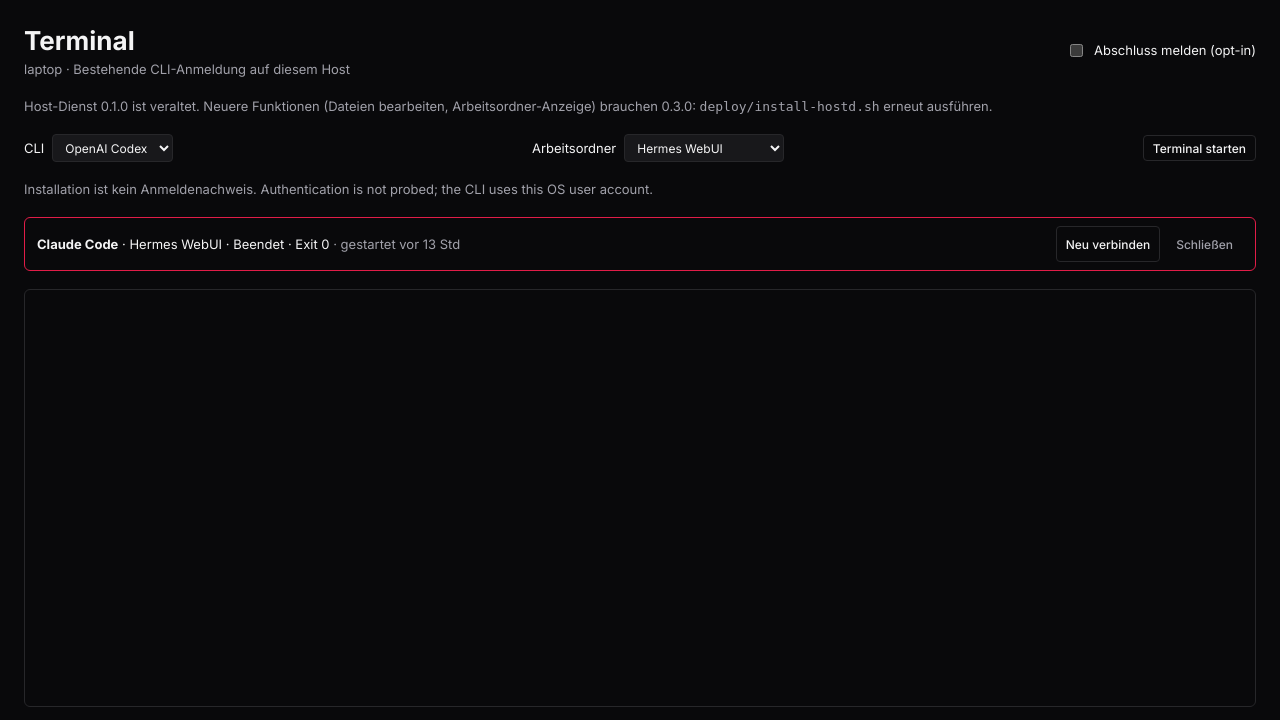
Test: terminal › shows an exited terminal (real shape) as Beendet with Exit code and closes it via DELETE
expect the text "Beendet · Exit 0" is shown: met, box [233,236,330,252]
expect the text "· gestartet vor 13 Std" is shown: met, box [330,236,460,252]
Click the button "Schließen" at [1205, 244], box [1166,226,1243,262]
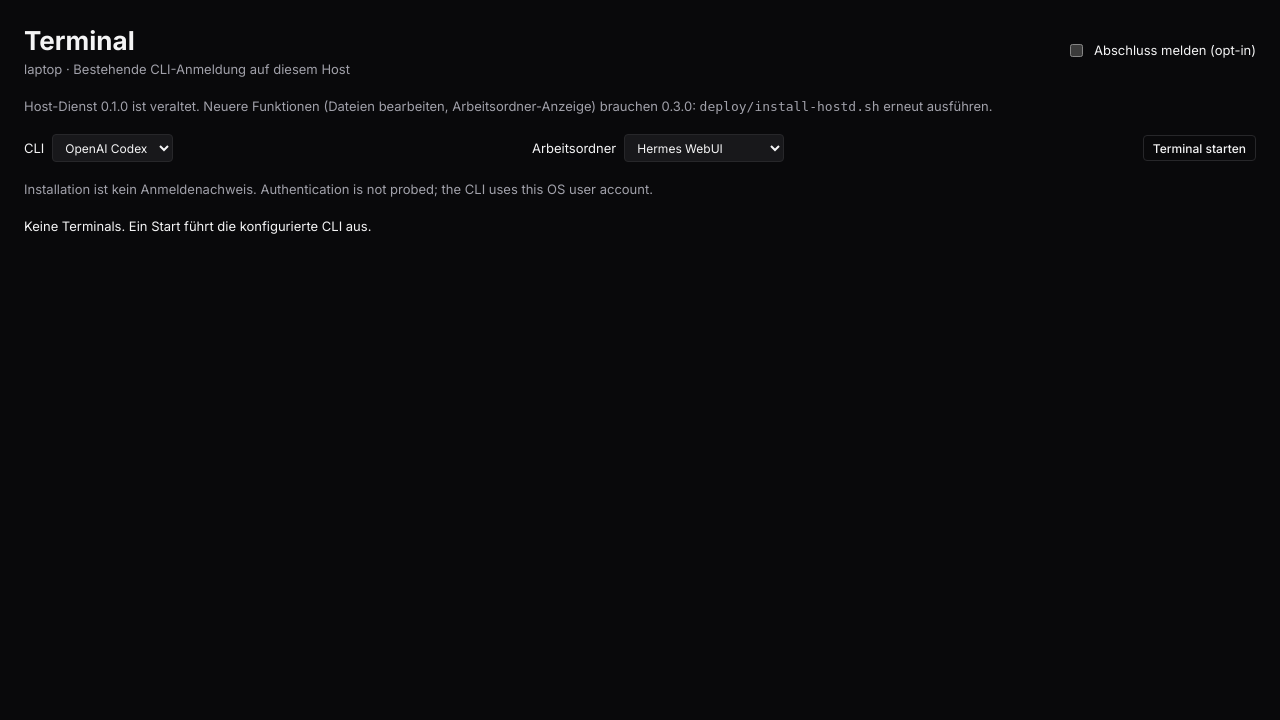
expect the text "Keine Terminals. Ein Start führt die konfigurierte CLI aus." is shown: met, box [24,218,371,234]
